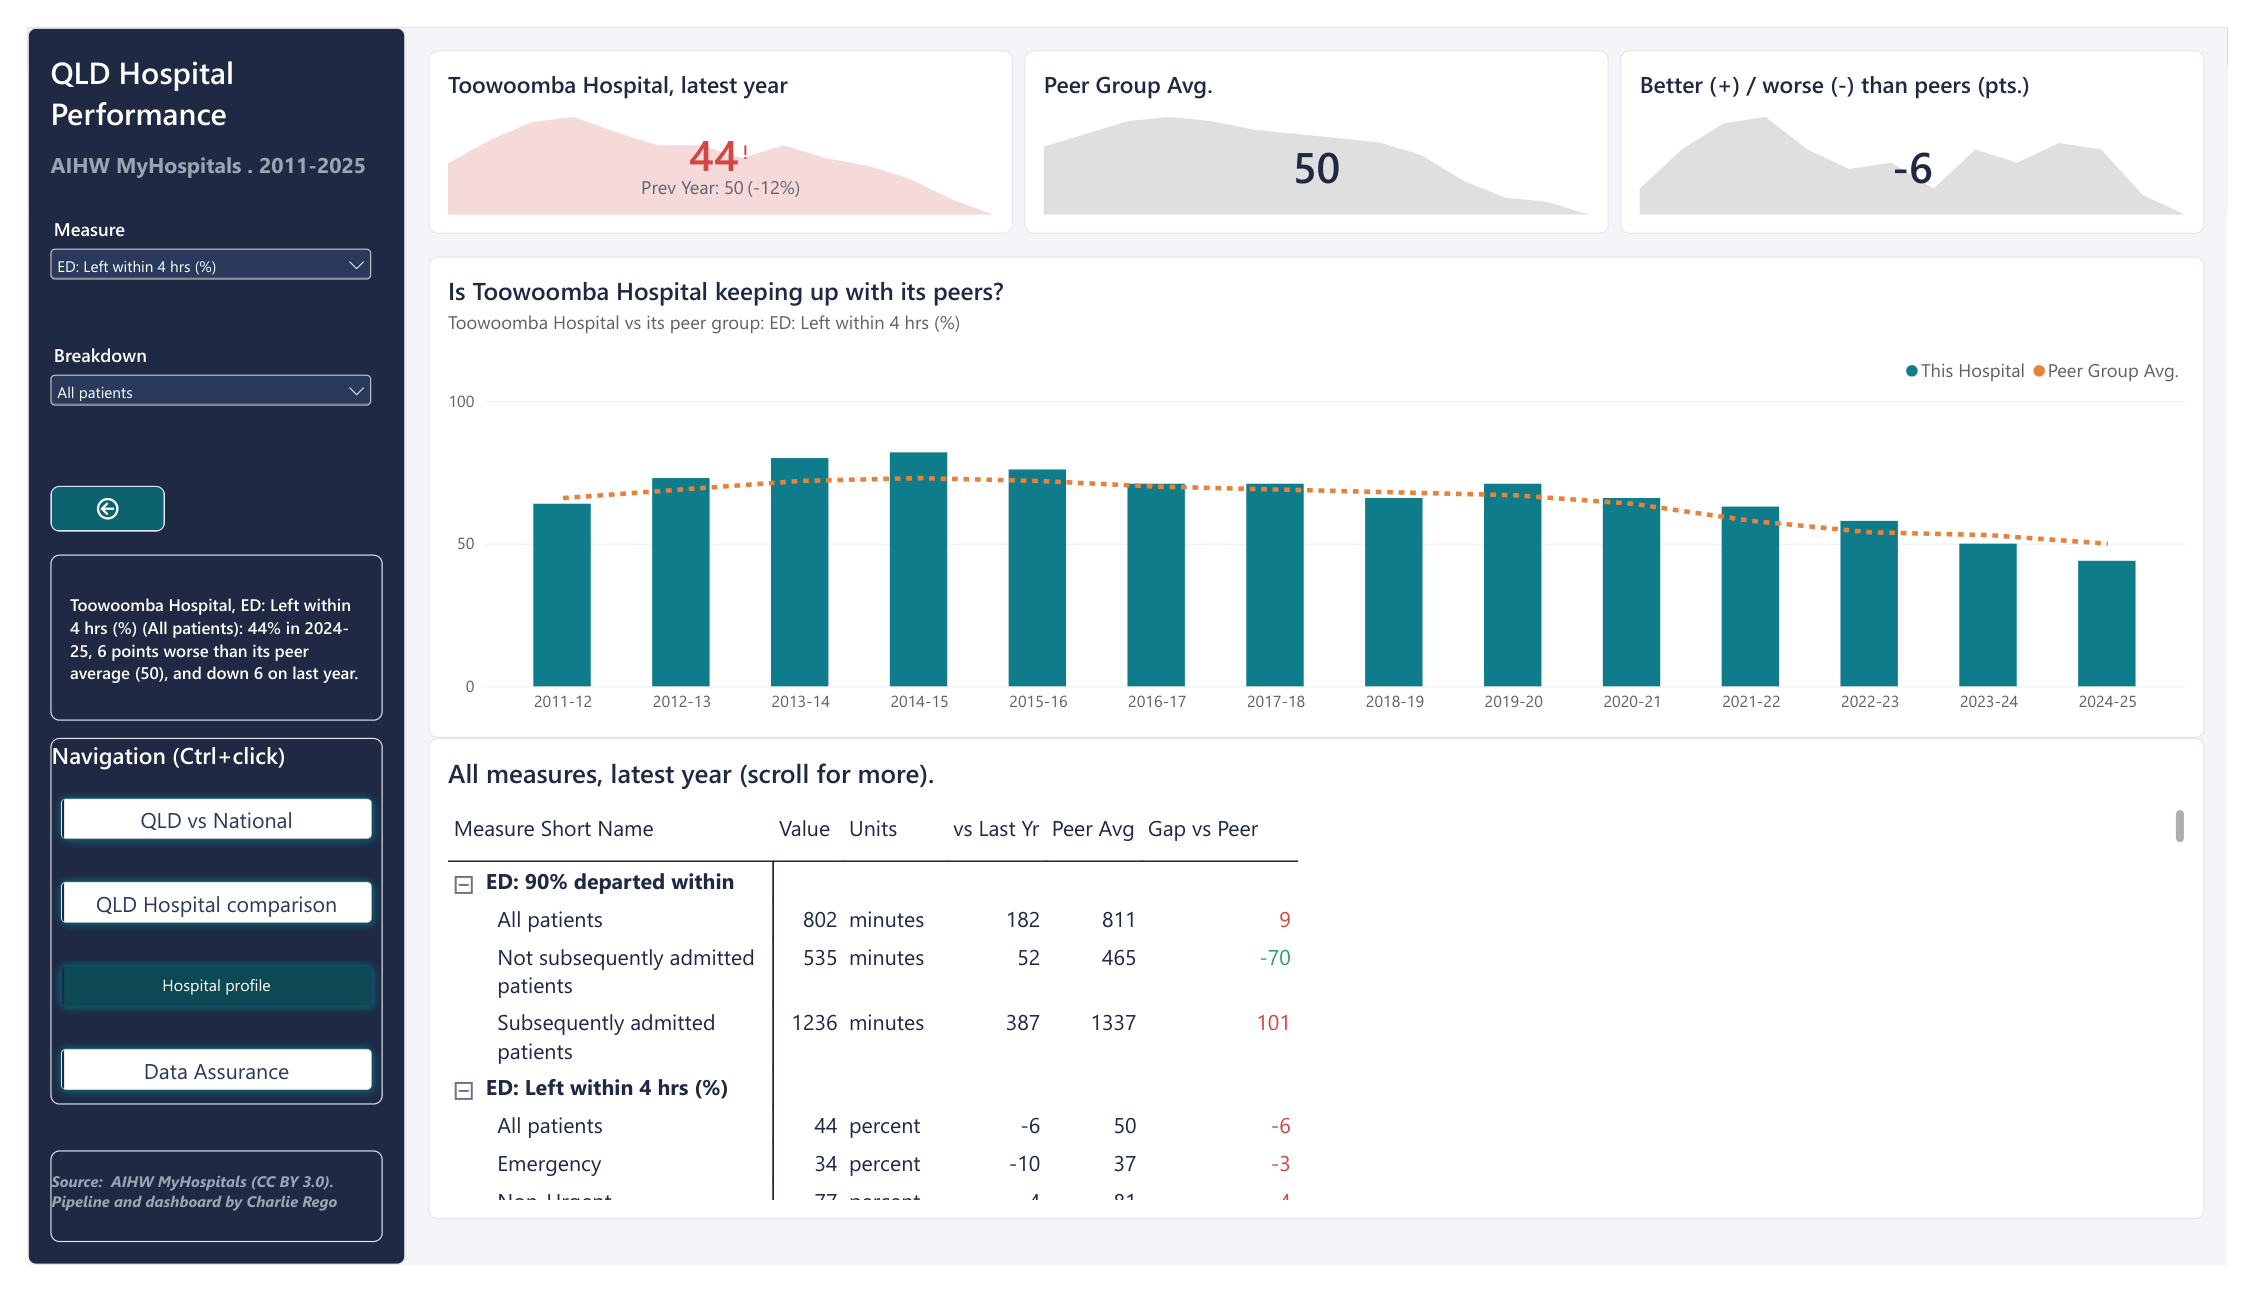

This screenshot's page, from the dashboard's own definition file:
{"tool":"powerbi","page":{"name":"Hospital profile","canvas":[1920,1080],"ordinal":2},"visuals":[{"type":"shape","box":[0,0,330,1080],"z":0},{"type":"slicer","fields":{"Values":["dim_measure.Measure Short Name"]},"box":[15,165,290,90],"z":1000},{"type":"slicer","fields":{"Values":["dim_measure.reported_measure_name"]},"box":[15,275,290,90],"z":2000},{"type":"textbox","title":"QLD Hospital Performance","box":[20,20,290,120],"z":3000},{"type":"actionButton","box":[20,400,100,40],"z":4000},{"type":"kpi","fields":{"Goal":["dim_measure.Previous Period Value"],"Indicator":["dim_measure.Reporting Unit Value"],"TrendLine":["fct_hospital_measure.period_label"]},"box":[350,20,510,160],"z":5000},{"type":"kpi","title":"Peer Group Avg.","fields":{"Indicator":["dim_measure.Peer Group Value"],"TrendLine":["fct_hospital_measure.period_label"]},"box":[870,20,510,160],"z":6000},{"type":"kpi","title":"Better (+) / worse (-) than peers (pts.)","fields":{"Indicator":["dim_measure.Performance vs Peer"],"TrendLine":["fct_hospital_measure.period_label"]},"box":[1390,20,510,160],"z":7000},{"type":"lineClusteredColumnComboChart","fields":{"Category":["fct_hospital_measure.period_label"],"Y":["dim_measure.Reporting Unit Value"],"Y2":["dim_measure.Peer Group Value"]},"box":[350,200,1550,420],"z":8000},{"type":"pivotTable","title":"All measures, latest year (scroll for more).","fields":{"Rows":["dim_measure.Measure Short Name","dim_measure.reported_measure_name"],"Values":["dim_measure.M Value","dim_measure.M Units","dim_measure.M vs Last Yr","dim_measure.M Peer","dim_measure.M vs Peer"]},"box":[350,620,1550,420],"z":9000},{"type":"pageNavigator","title":"Navigation (Ctrl+click)","box":[20,620,290,320],"z":9001},{"type":"textbox","box":[20,980,290,80],"z":9003},{"type":"cardVisual","fields":{"Data":["dim_measure.Profile Summary"]},"box":[20,460,290,145],"z":9004}]}

Visuals, with their boxes in screenshot pixels (x1, y1, x2, y2), scaled from the page's 1920x1080 canvas onto the 2255x1293 screenshot:
shape: {"left": 0, "top": 0, "right": 388, "bottom": 1292}
slicer - dim_measure.Measure Short Name: {"left": 18, "top": 198, "right": 358, "bottom": 305}
slicer - dim_measure.reported_measure_name: {"left": 18, "top": 329, "right": 358, "bottom": 437}
"QLD Hospital Performance" textbox: {"left": 23, "top": 24, "right": 364, "bottom": 168}
actionButton: {"left": 23, "top": 479, "right": 141, "bottom": 527}
kpi - dim_measure.Previous Period Value x dim_measure.Reporting Unit Value: {"left": 411, "top": 24, "right": 1010, "bottom": 216}
"Peer Group Avg." kpi: {"left": 1022, "top": 24, "right": 1621, "bottom": 216}
"Better (+) / worse (-) than peers (pts.)" kpi: {"left": 1633, "top": 24, "right": 2232, "bottom": 216}
lineClusteredColumnComboChart - fct_hospital_measure.period_label x dim_measure.Reporting Unit Value: {"left": 411, "top": 239, "right": 2232, "bottom": 742}
"All measures, latest year (scroll for more)." pivotTable: {"left": 411, "top": 742, "right": 2232, "bottom": 1245}
"Navigation (Ctrl+click)" pageNavigator: {"left": 23, "top": 742, "right": 364, "bottom": 1125}
textbox: {"left": 23, "top": 1173, "right": 364, "bottom": 1269}
cardVisual - dim_measure.Profile Summary: {"left": 23, "top": 551, "right": 364, "bottom": 724}
